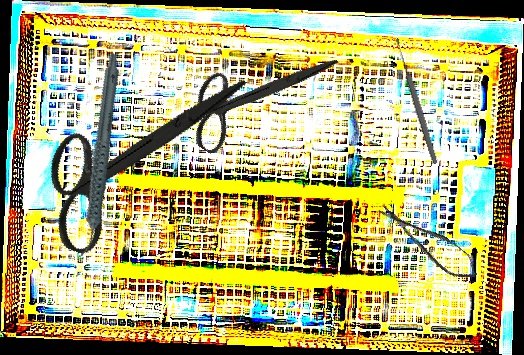Handpiece: (36, 51, 160, 260)
Iris Scissors: (22, 25, 249, 288), (172, 6, 341, 186)
Micro Scissor: (373, 193, 484, 289)
Surgical Spoon: (393, 37, 440, 165)
